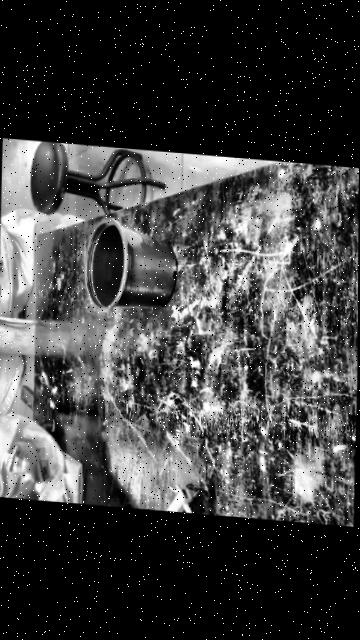pot: (85, 218, 176, 310)
